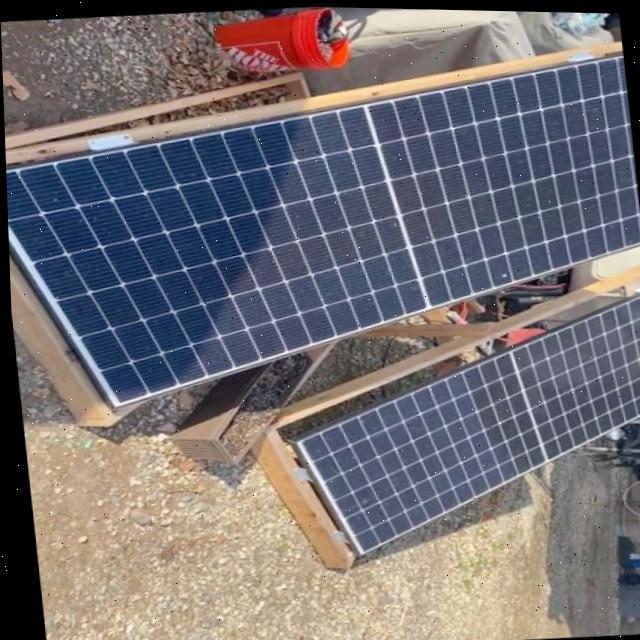Normal Solar Panel: (1, 41, 640, 422), (274, 274, 640, 562)
